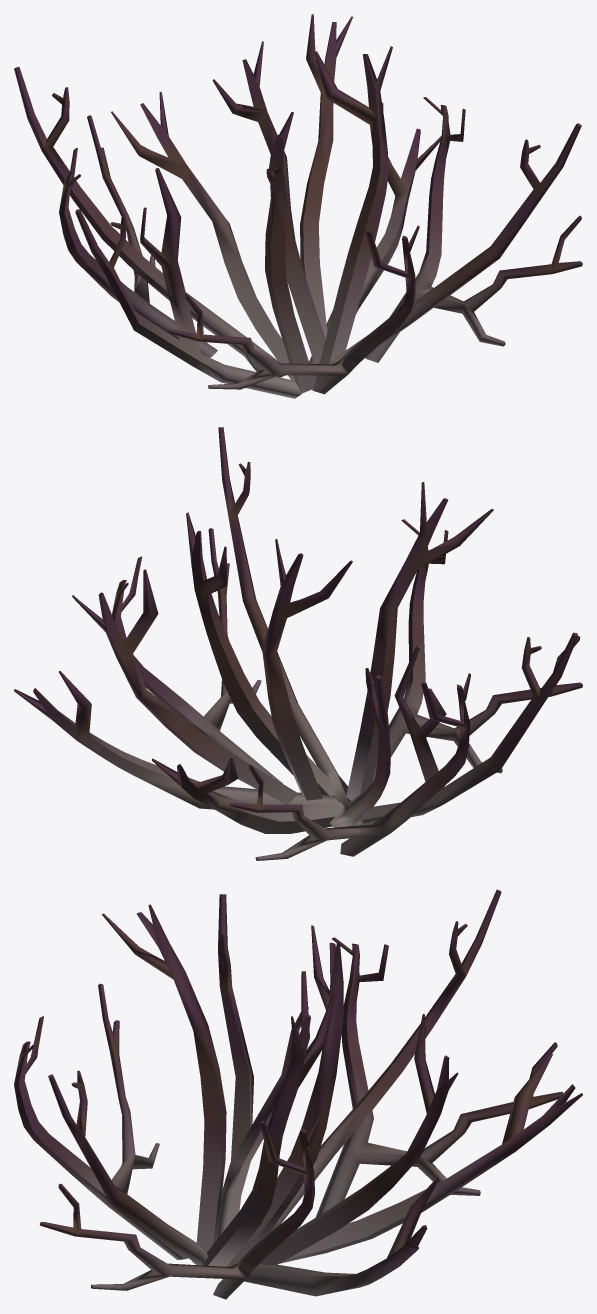
The model's file is Bush_2.fbx.
3 views of the same model, one above another, from view 1: azimuth 30°, elevation 25°; view 2: azimuth 150°, elevation 25°; view 3: azimuth 270°, elevation 25° (orthographic). The views are drawn at different scales.
Visible parts, largest first — view 1: polySurface108; view 2: polySurface108; view 3: polySurface108.
Part boxes in pixels (x1,y1,x2,y2): polySurface108: (14, 14, 582, 398); polySurface108: (14, 427, 582, 860); polySurface108: (14, 889, 582, 1299).
Size of the model in its own units: 80.12 by 53.4 by 78.57.
